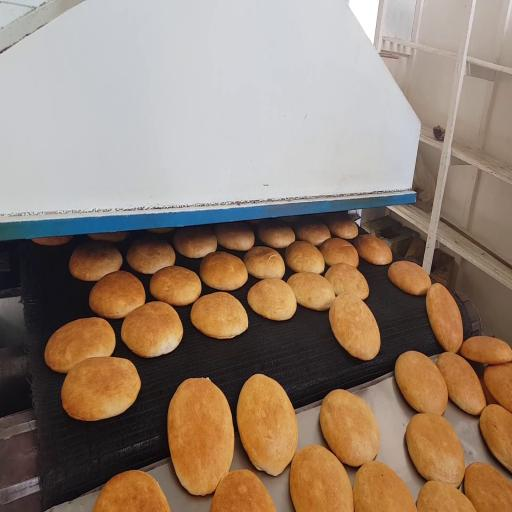bread: (168, 379, 234, 495), (237, 374, 298, 475), (62, 357, 140, 420), (320, 390, 379, 466), (406, 413, 465, 486), (290, 445, 353, 511), (45, 318, 115, 373), (121, 302, 183, 357), (330, 293, 380, 360), (395, 351, 448, 414), (354, 461, 416, 511), (93, 471, 170, 511), (437, 353, 486, 415), (210, 470, 276, 511), (89, 271, 145, 319), (191, 292, 248, 338), (426, 284, 463, 352), (464, 463, 511, 511), (69, 241, 122, 281), (480, 404, 511, 471), (248, 278, 296, 320), (150, 266, 201, 305), (200, 252, 247, 290), (287, 273, 335, 310), (127, 237, 175, 274), (418, 481, 475, 511), (325, 263, 369, 299), (388, 261, 431, 295), (461, 336, 511, 365), (174, 226, 217, 258), (244, 247, 285, 279), (484, 363, 511, 411), (285, 241, 324, 274), (214, 222, 254, 251), (354, 235, 392, 265), (320, 238, 358, 267), (258, 220, 295, 248), (295, 220, 330, 246), (327, 216, 358, 239), (479, 374, 496, 404), (32, 236, 72, 246), (88, 232, 127, 242), (147, 228, 174, 234), (247, 220, 262, 226)
